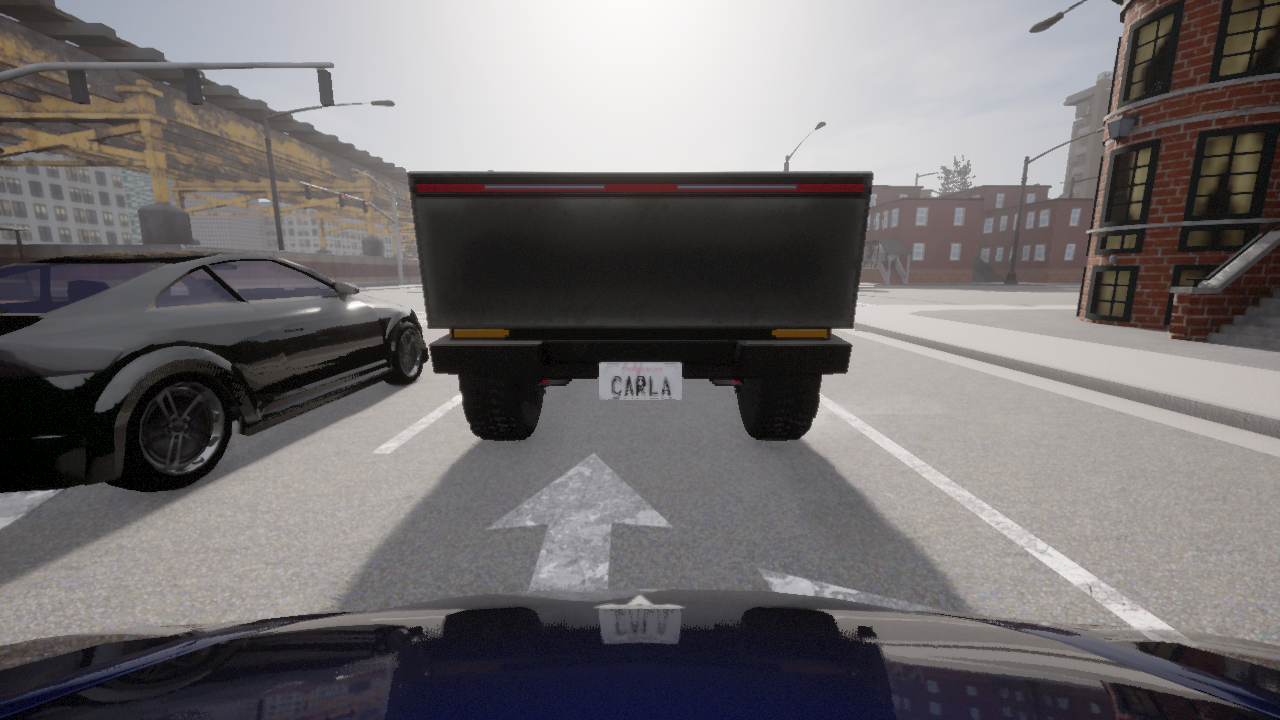cyclist: (0, 588, 1279, 719), (408, 172, 872, 439), (0, 250, 428, 492)
